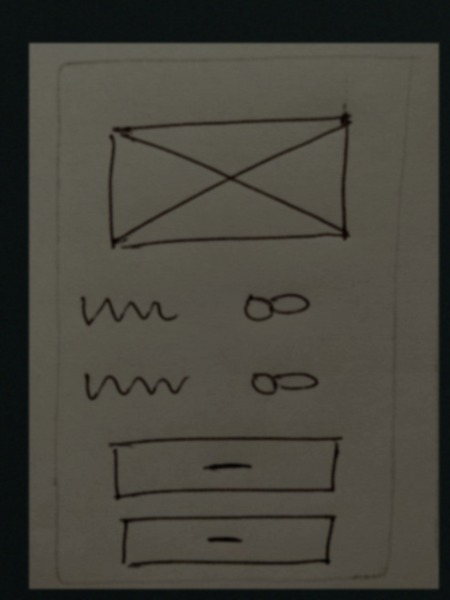button: (96, 433, 351, 507), (108, 511, 345, 575)
image: (98, 108, 362, 255)
switch: (231, 357, 327, 410), (230, 280, 315, 333)
text: (71, 285, 186, 339), (76, 364, 197, 410)
